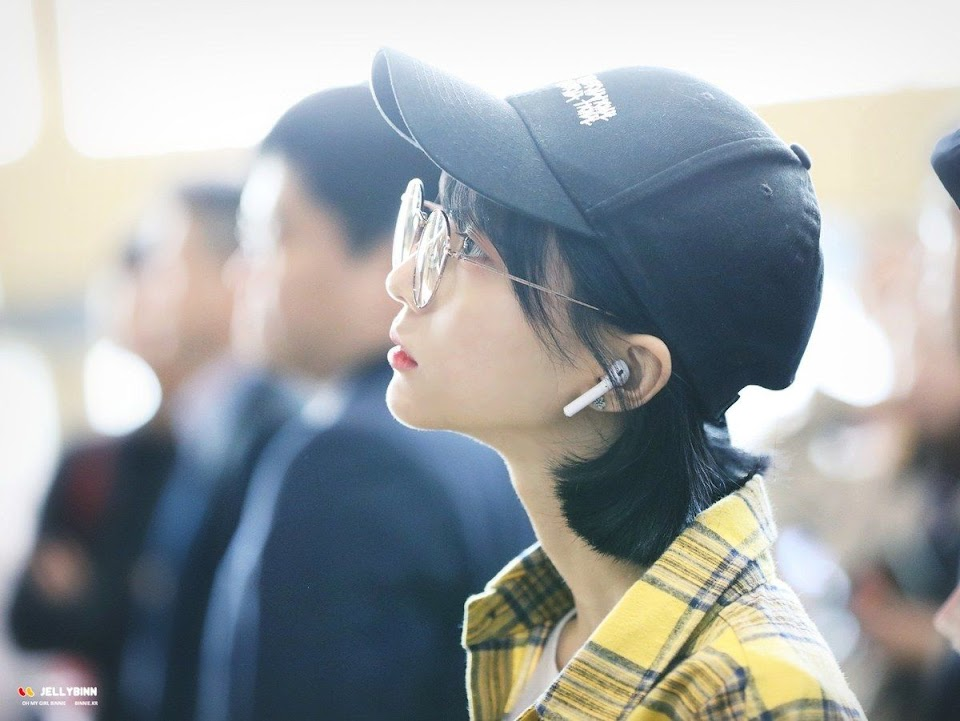earphone: (562, 334, 673, 419)
